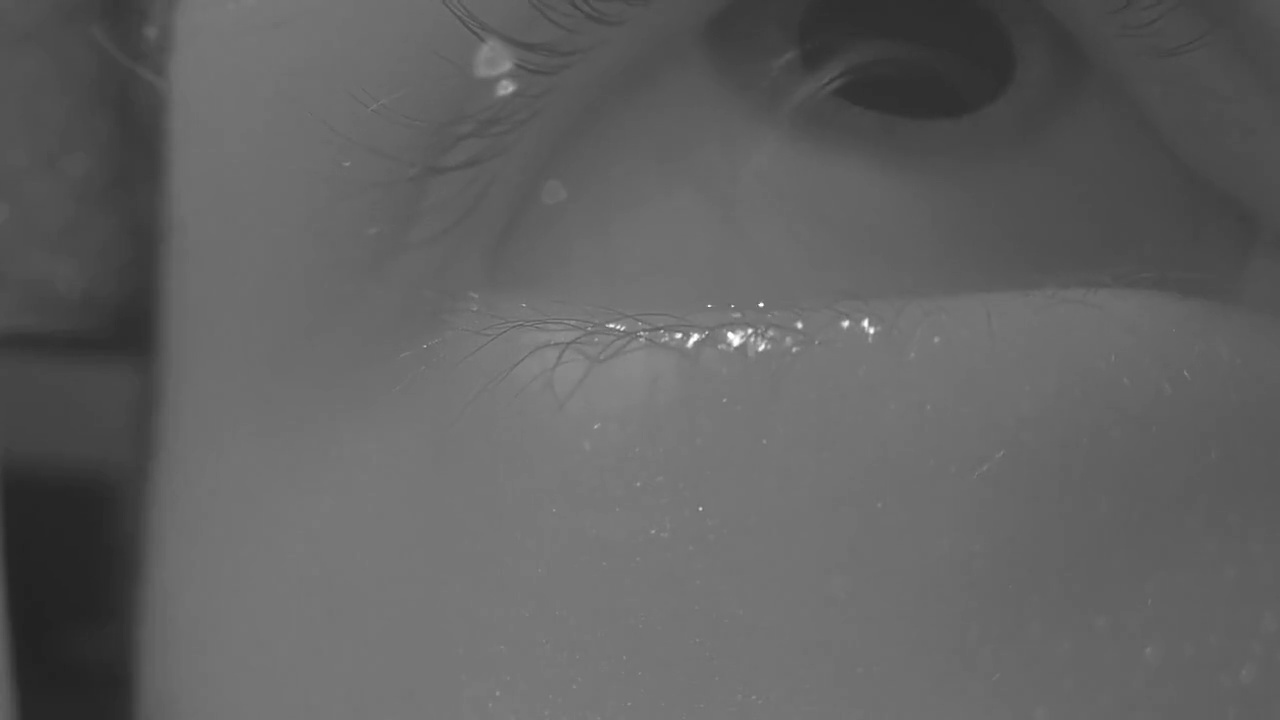pupil: (799, 1, 1016, 119)
